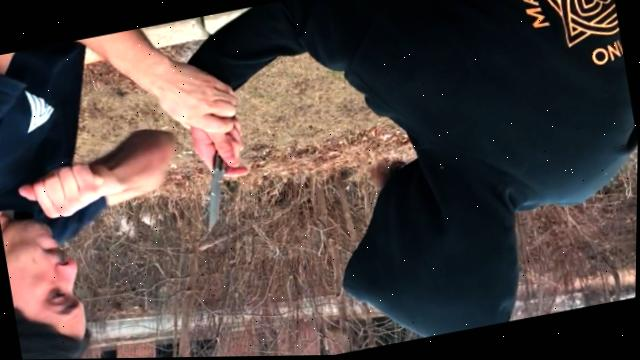pocket-knife: (183, 112, 264, 240)
